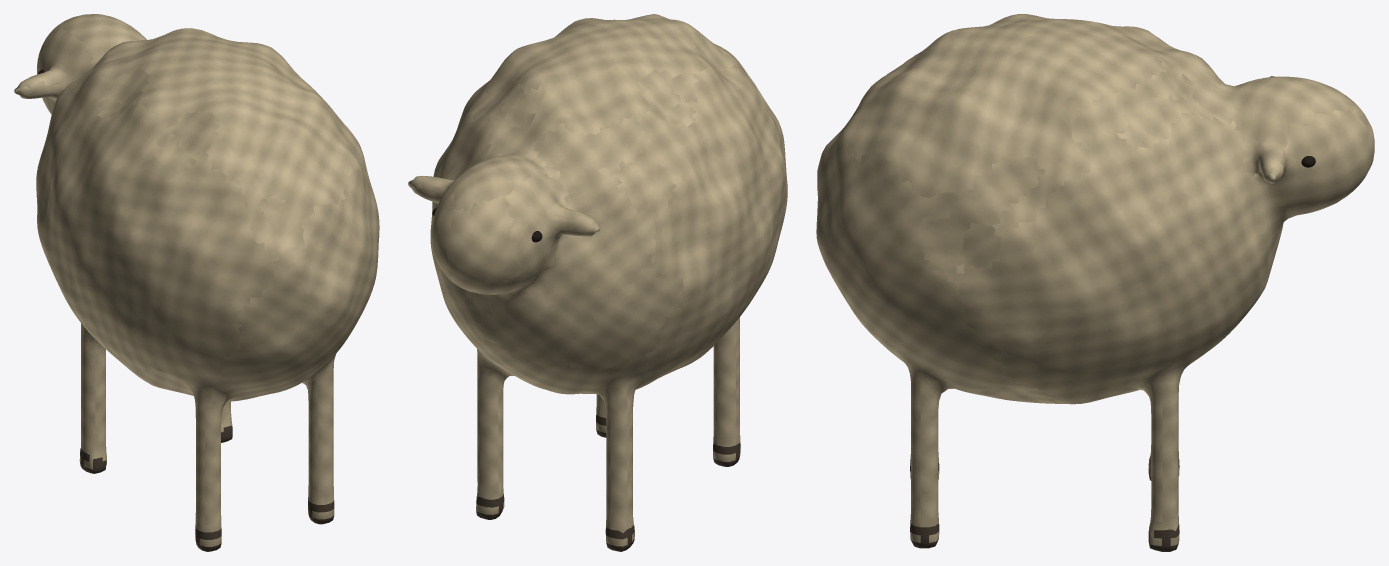
Rendered from sheep_weld_review.glb.
3 renders of one model, left to right at view 1: azimuth 30°, elevation 25°; view 2: azimuth 150°, elevation 25°; view 3: azimuth 270°, elevation 25°, orthographic. The views are drawn at different scales.
Parts seen in each view (by area): view 1: welded_body_review; view 2: welded_body_review; view 3: welded_body_review.
Boxes of the visible parts, x1,y1,x2,y2 form: welded_body_review: (14,14,379,551); welded_body_review: (408,14,787,551); welded_body_review: (816,14,1374,551).
Bounding box in the file's own units: 0.9657 × 1.49 × 1.56.
Materials: 7 (1 with a texture image).
